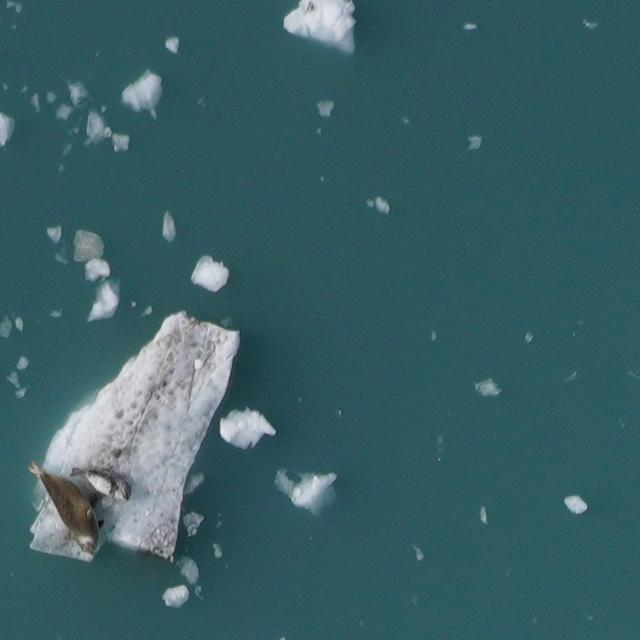seal: (27, 460, 103, 555), (74, 468, 129, 499)
